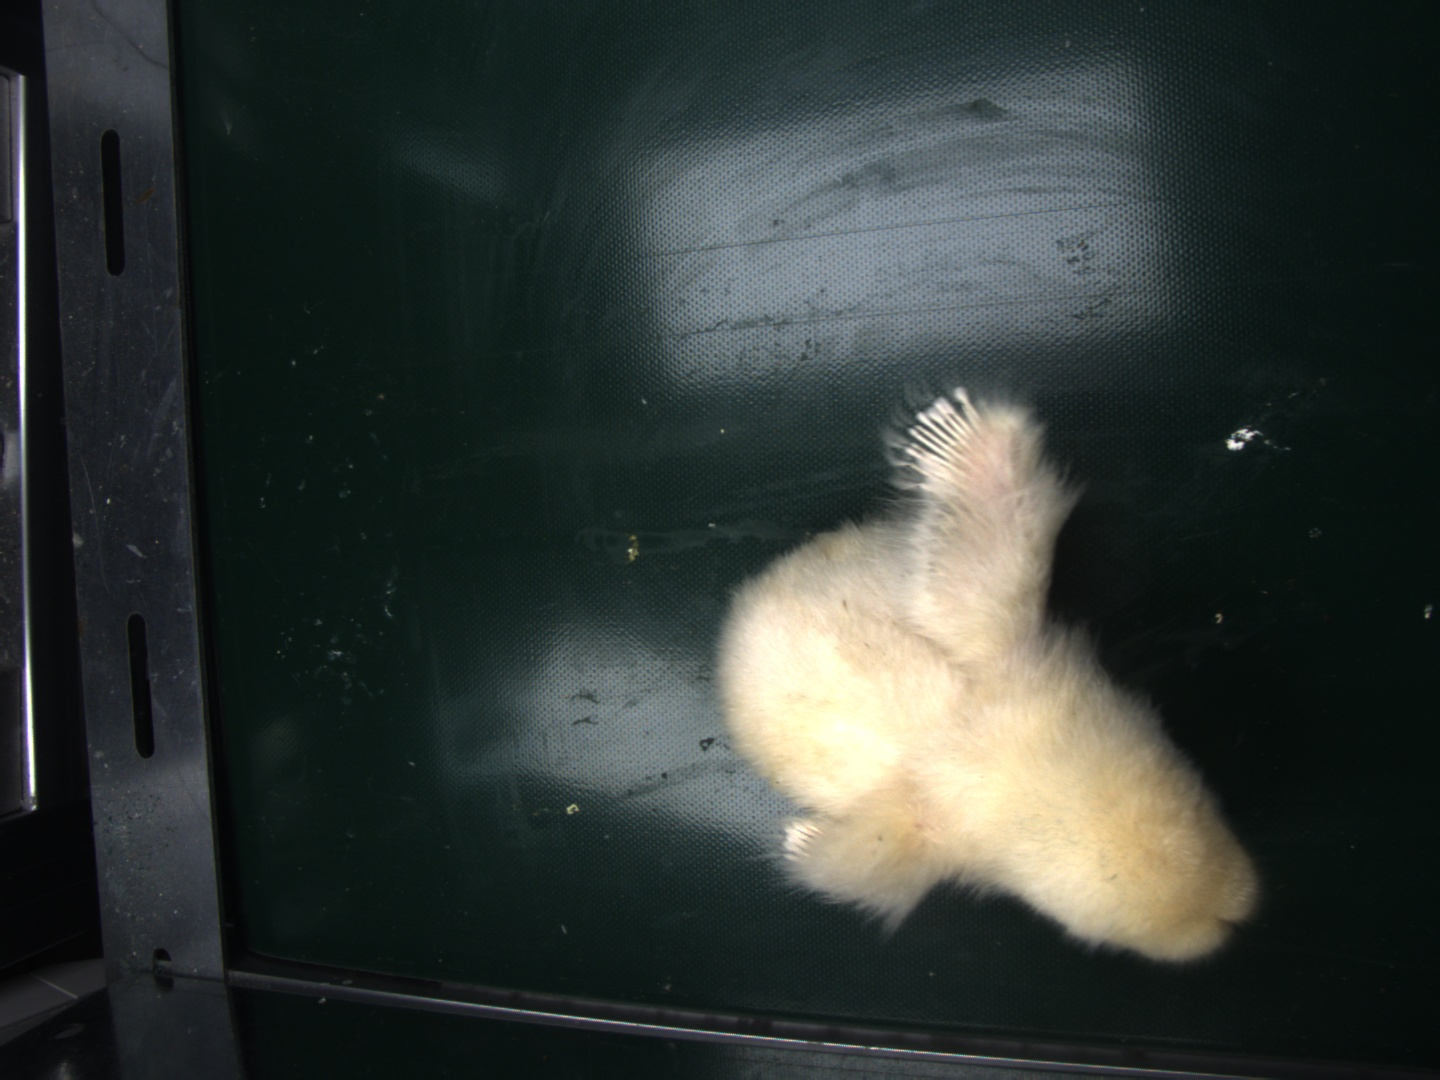male: (903, 386, 980, 484)
